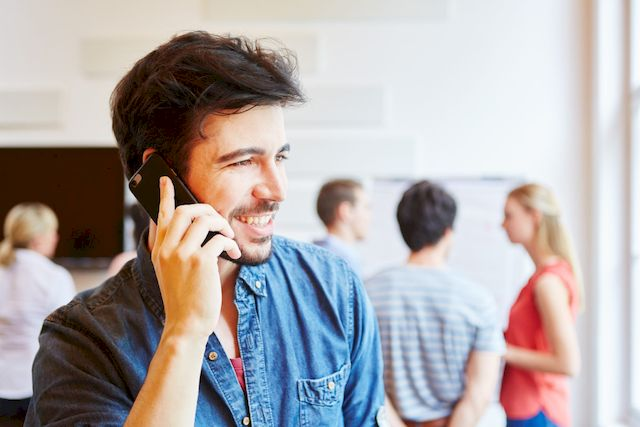phone: (128, 163, 220, 246)
talk: (124, 135, 294, 334)
